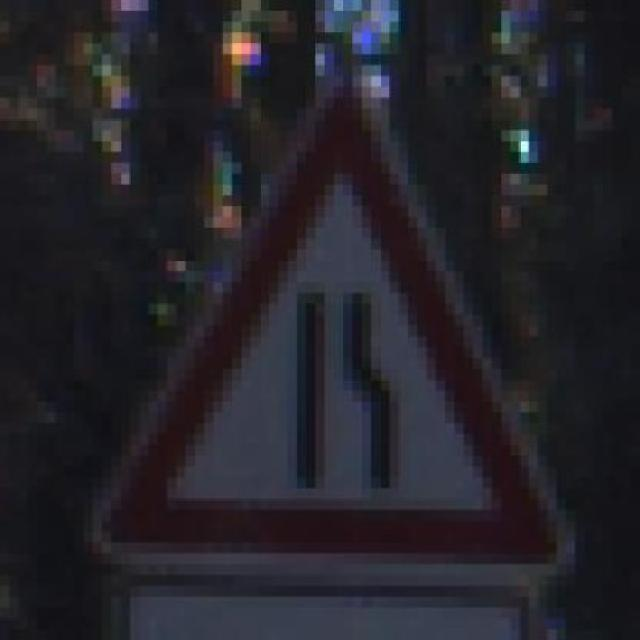-Road narrows on right: (92, 54, 576, 597)
